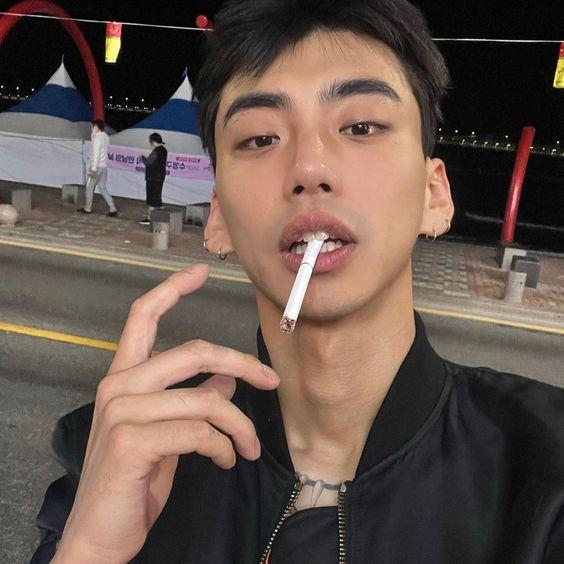cigarette: (279, 239, 322, 335)
